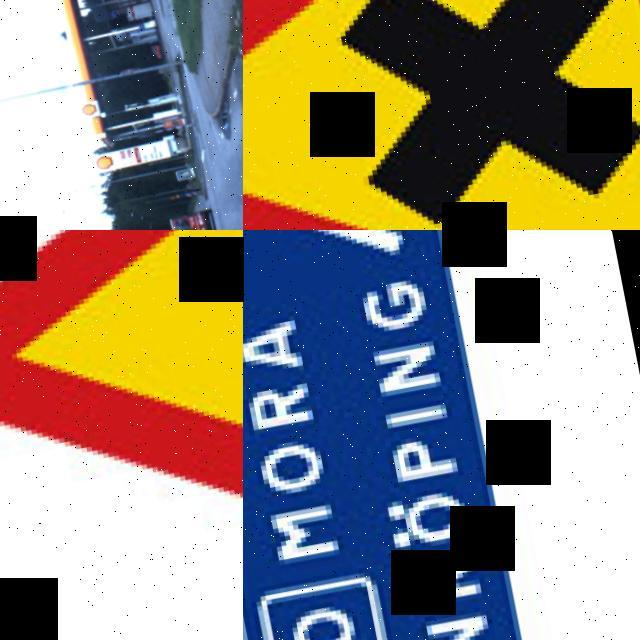143: (0, 230, 243, 640)
3: (243, 230, 538, 640)
Crossroad intersection: (243, 0, 640, 230)
Direction sign exit sign: (243, 230, 538, 640)
two way traffic: (243, 230, 640, 640)
